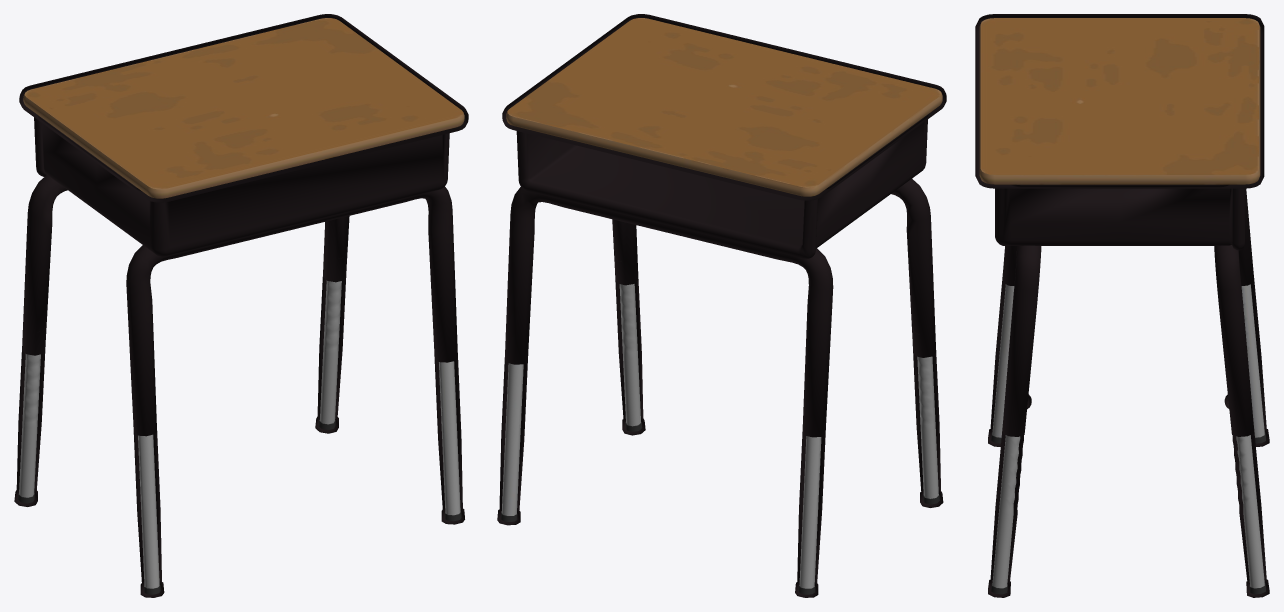
Rendered from SM_Int_SchoolDesk.fbx.
3 views of the same model, side by side, from view 1: azimuth 30°, elevation 25°; view 2: azimuth 150°, elevation 25°; view 3: azimuth 270°, elevation 25° (orthographic). The views are drawn at different scales.
Visible parts, largest first — view 1: SM_Int_SchoolDesk; view 2: SM_Int_SchoolDesk; view 3: SM_Int_SchoolDesk.
Boxes of the visible parts, x1,y1,x2,y2 form: SM_Int_SchoolDesk: [14, 14, 468, 597]; SM_Int_SchoolDesk: [497, 14, 946, 597]; SM_Int_SchoolDesk: [975, 14, 1269, 597].
Size of what is drawn, in the model's own units: 0.7275 by 0.897 by 0.5603.
